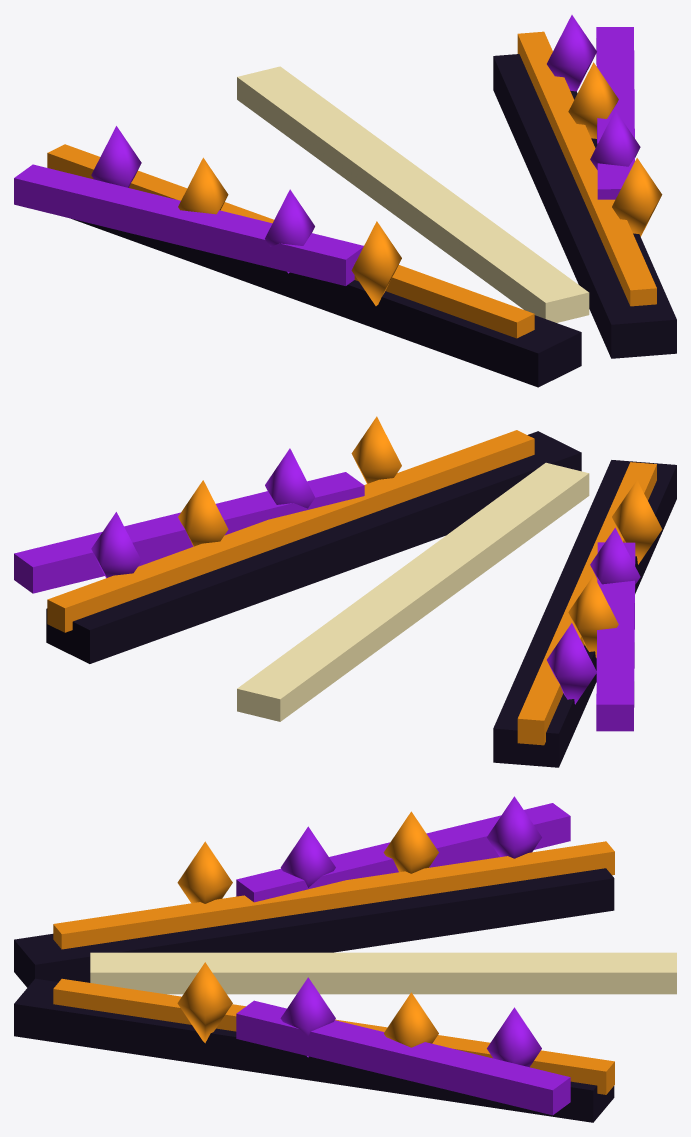
Rendered from false_king_rush_wings.obj.
3 renders of one model, top to bottom at view 1: azimuth 30°, elevation 25°; view 2: azimuth 150°, elevation 25°; view 3: azimuth 270°, elevation 25°, orthographic. The views are drawn at different scales.
Visible parts, largest first — view 1: false_king_rush_wings; view 2: false_king_rush_wings; view 3: false_king_rush_wings.
Boxes of the visible parts, x1,y1,x2,y2 form: false_king_rush_wings: (14, 15, 676, 387); false_king_rush_wings: (14, 416, 676, 767); false_king_rush_wings: (14, 796, 676, 1122).
Size of the model in its own units: 3.43 by 0.57 by 3.34.
